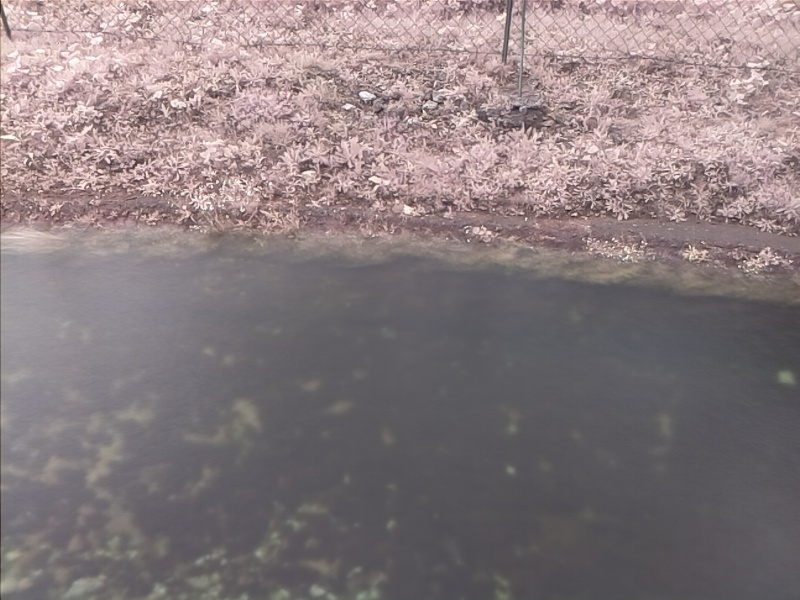Water: (1, 220, 799, 600)
